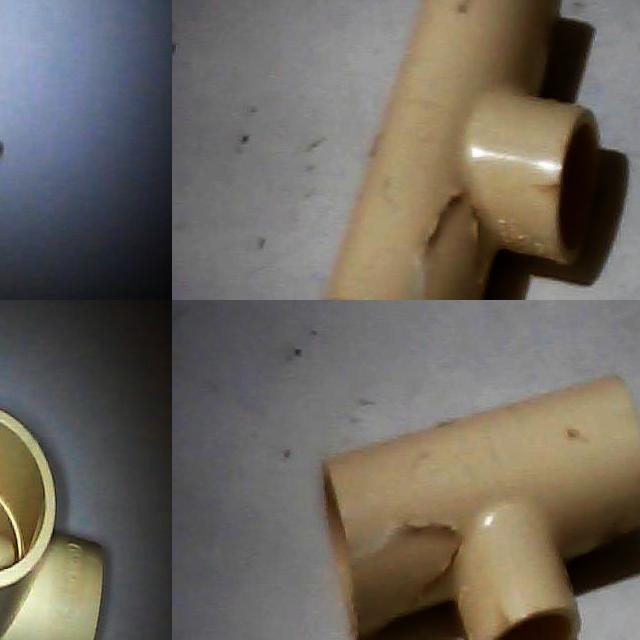Defective: (364, 505, 464, 608), (412, 175, 479, 300)
T Joint: (324, 0, 601, 300), (324, 378, 640, 640), (0, 409, 110, 640)
